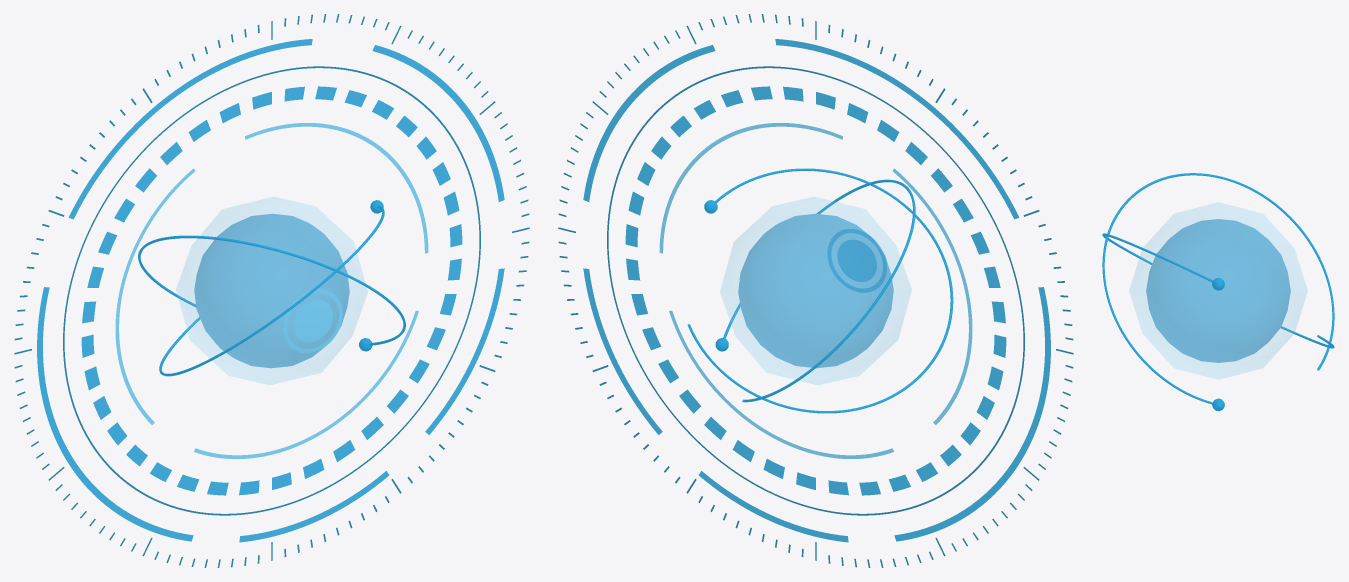
File: imprint-echo.glb
The picture shows the model from 3 angles, left to right: view 1: azimuth 30°, elevation 25°; view 2: azimuth 150°, elevation 25°; view 3: azimuth 270°, elevation 25°; orthographic projection. The views are drawn at different scales.
Visible parts, largest first — view 1: Echo_Shell, Echo_Core, Echo_RingDash, Echo_RingOuter, Echo_RingInner, Echo_Circle, Echo_Ticks, Echo_Eye, Echo_OrbitB, Echo_OrbitA; view 2: Echo_Shell, Echo_Core, Echo_RingDash, Echo_RingOuter, Echo_RingInner, Echo_Circle, Echo_Ticks, Echo_OrbitA, Echo_Eye, Echo_OrbitB; view 3: Echo_Shell, Echo_Core, Echo_OrbitB, Echo_OrbitA.
Part boxes in pixels (left/top/right/bottom): Echo_Shell: left=176, top=197, right=367, bottom=384; Echo_Core: left=194, top=213, right=349, bottom=368; Echo_RingDash: left=81, top=86, right=462, bottom=495; Echo_RingOuter: left=37, top=39, right=504, bottom=542; Echo_RingInner: left=115, top=123, right=428, bottom=458; Echo_Circle: left=63, top=66, right=480, bottom=515; Echo_Ticks: left=14, top=14, right=529, bottom=567; Echo_Eye: left=283, top=289, right=342, bottom=352; Echo_OrbitB: left=138, top=235, right=405, bottom=351; Echo_OrbitA: left=159, top=200, right=384, bottom=376; Echo_Shell: left=720, top=197, right=911, bottom=384; Echo_Core: left=738, top=213, right=893, bottom=368; Echo_RingDash: left=625, top=86, right=1006, bottom=495; Echo_RingOuter: left=583, top=39, right=1050, bottom=542; Echo_RingInner: left=659, top=123, right=972, bottom=458; Echo_Circle: left=607, top=66, right=1024, bottom=515; Echo_Ticks: left=558, top=14, right=1073, bottom=567; Echo_OrbitA: left=687, top=168, right=953, bottom=413; Echo_Eye: left=827, top=229, right=886, bottom=292; Echo_OrbitB: left=715, top=179, right=915, bottom=402; Echo_Shell: left=1129, top=202, right=1307, bottom=379; Echo_Core: left=1146, top=219, right=1290, bottom=362; Echo_OrbitB: left=1102, top=173, right=1334, bottom=411; Echo_OrbitA: left=1102, top=233, right=1334, bottom=348.
Size of the model in its own units: 2.6 by 2.6 by 1.09.
